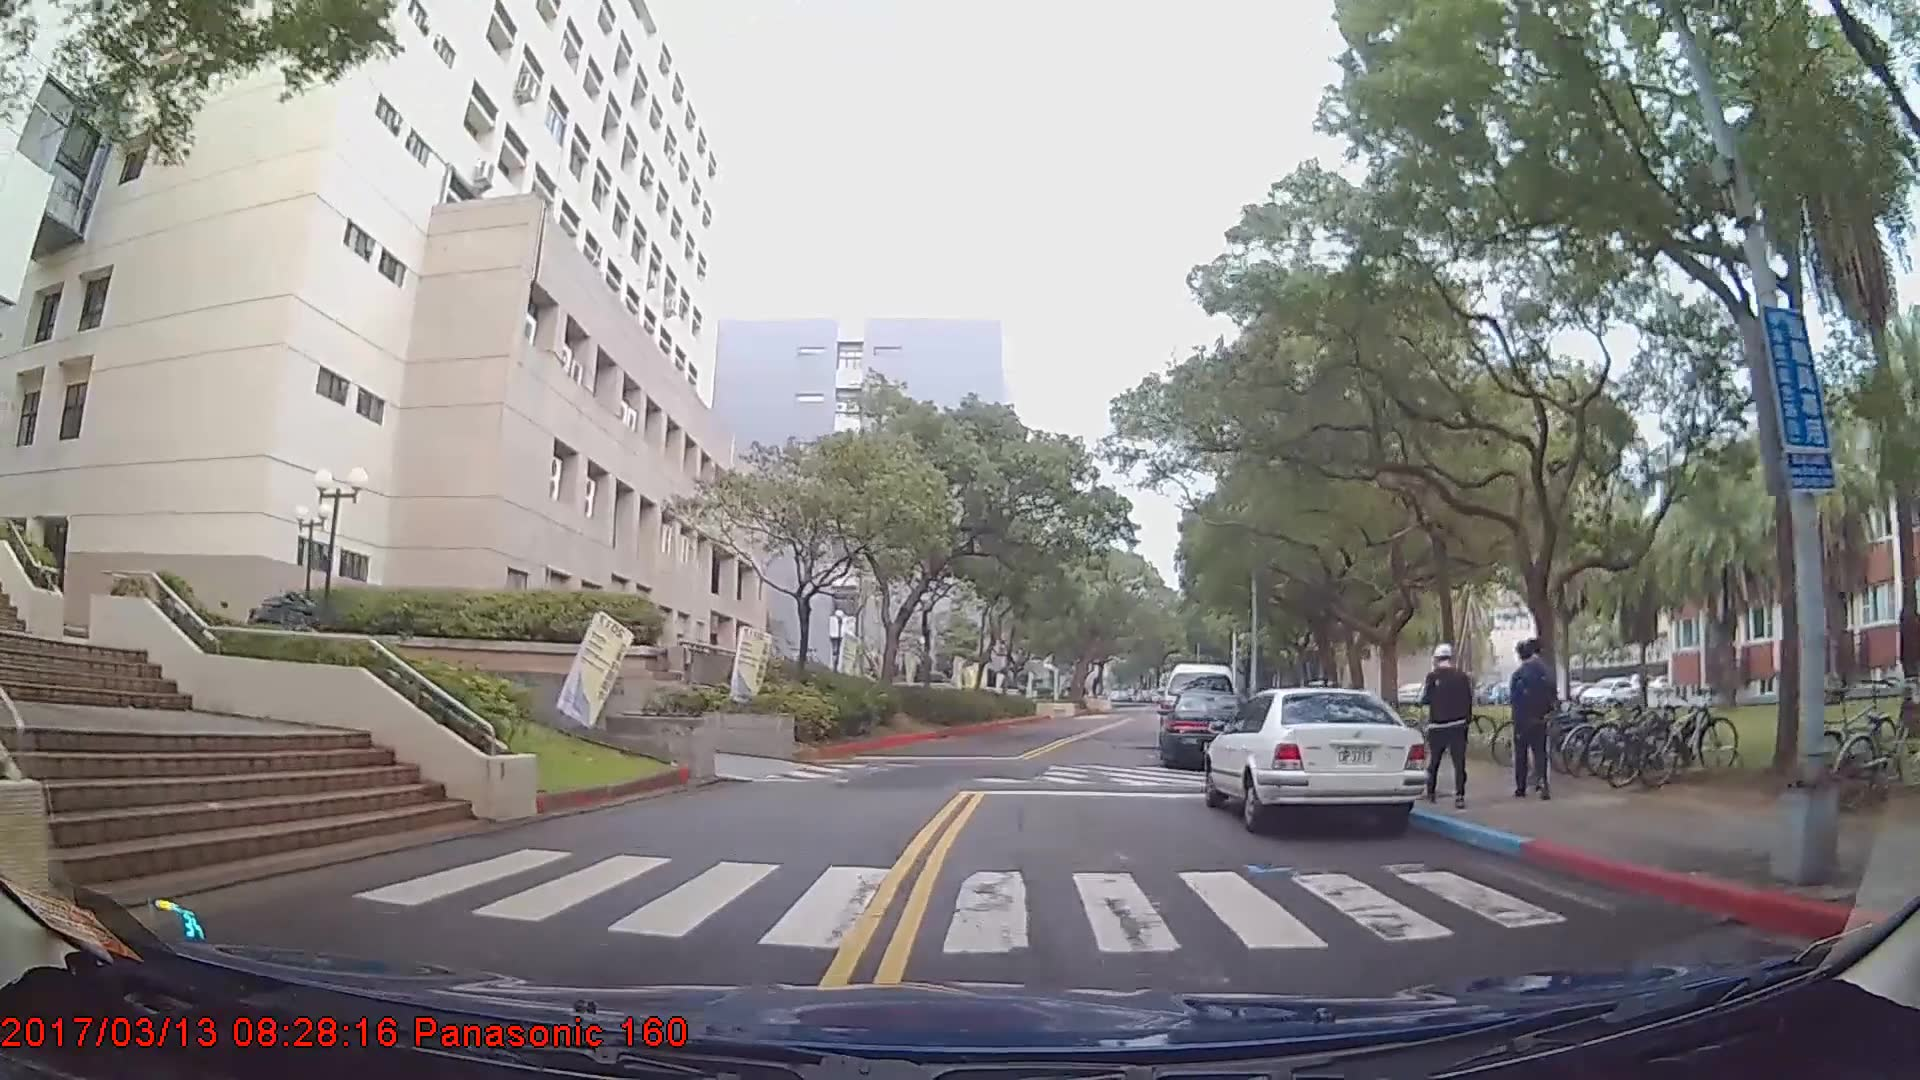pedestrian: (1504, 636, 1559, 802), (1422, 641, 1476, 805)
vehicle: (1202, 685, 1427, 833), (1159, 687, 1254, 767)
